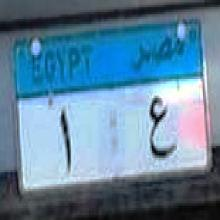1: (58, 108, 80, 178)
ain: (146, 93, 175, 162)
